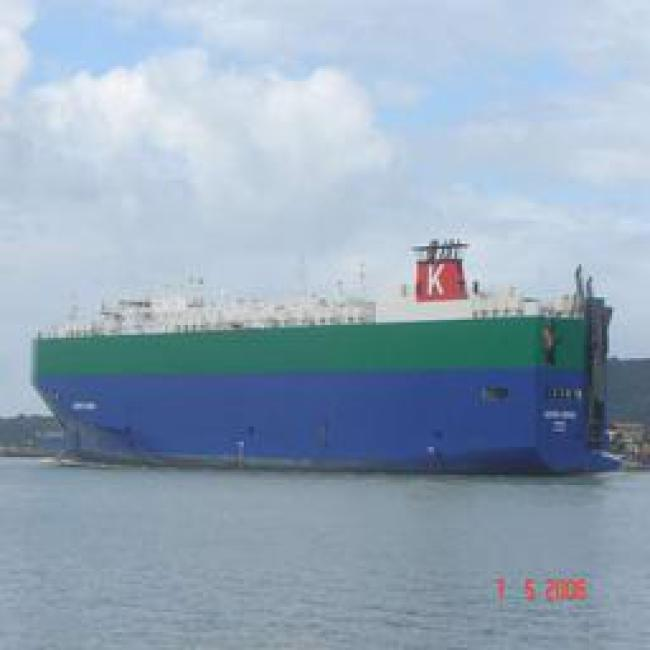Ship: (5, 285, 629, 486)
